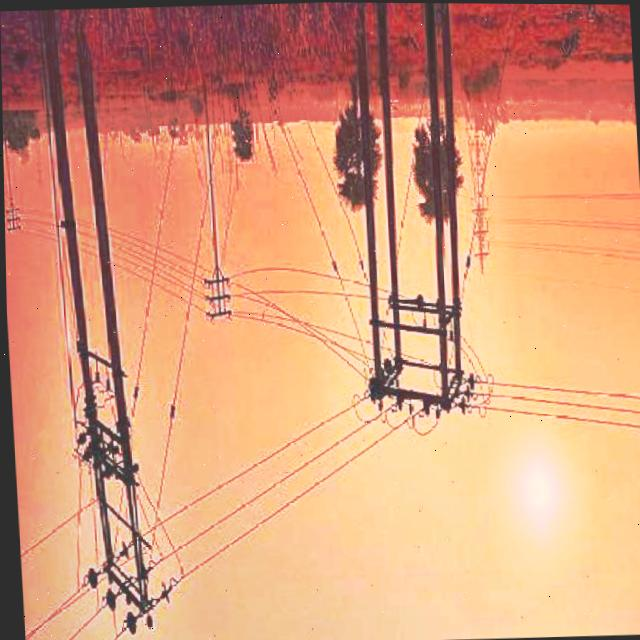poles: (39, 7, 171, 635), (346, 2, 477, 419), (194, 119, 231, 320)
wires: (162, 387, 395, 576), (225, 247, 363, 375), (484, 364, 640, 443), (109, 228, 203, 302)
